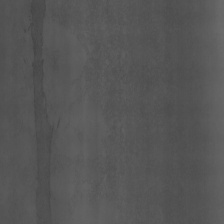water_spot: (28, 10, 63, 215)
